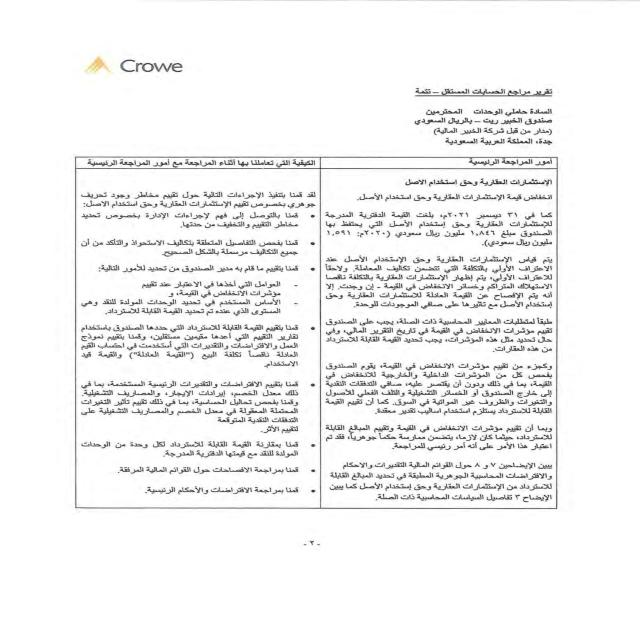auditor_report: (392, 76, 580, 106)
